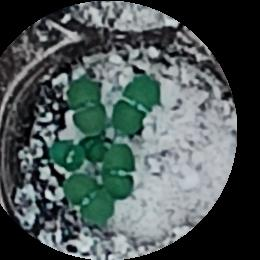Basil: (111, 77, 162, 133), (66, 173, 118, 223), (66, 81, 110, 134), (106, 148, 137, 198), (49, 140, 83, 175)
